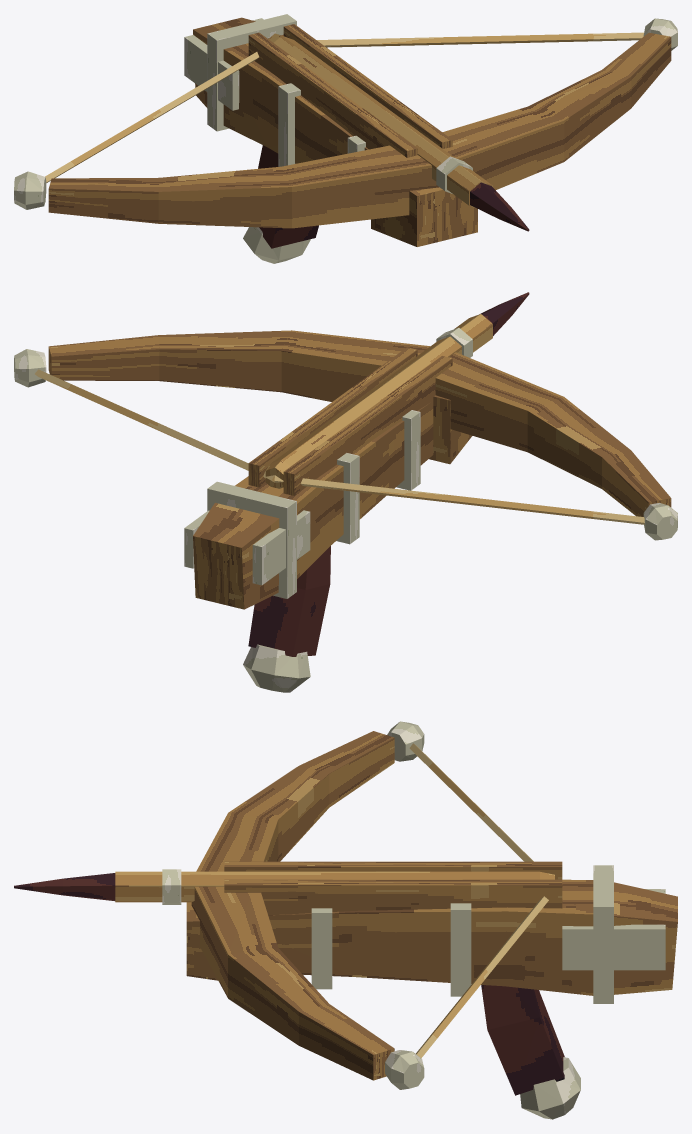
Rendered from armbrust-b-knochen.glb.
3 renders of one model, top to bottom at view 1: azimuth 30°, elevation 25°; view 2: azimuth 150°, elevation 25°; view 3: azimuth 270°, elevation 25°, orthographic. The views are drawn at different scales.
Visible parts, largest first — view 1: crossbow, stake; view 2: crossbow, stake; view 3: crossbow, stake.
Boxes of the visible parts, x1,y1,x2,y2 form: crossbow: [14, 14, 677, 263]; stake: [268, 33, 529, 231]; crossbow: [14, 330, 677, 692]; stake: [265, 292, 529, 488]; crossbow: [186, 721, 677, 1119]; stake: [14, 869, 554, 904].
Bounding box in the file's own units: 0.564 × 0.1874 × 0.4581.
Materials: 1 (1 with a texture image).
